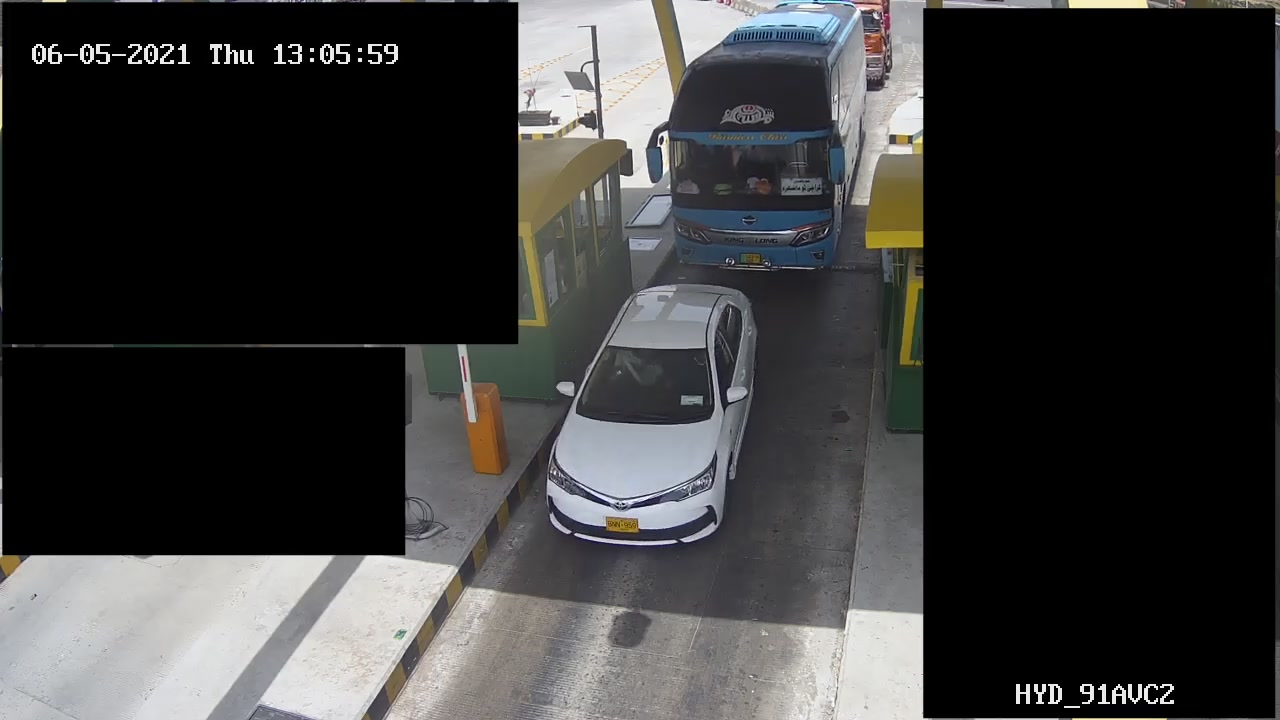F1: (537, 282, 759, 552)
F4: (659, 3, 867, 280)
